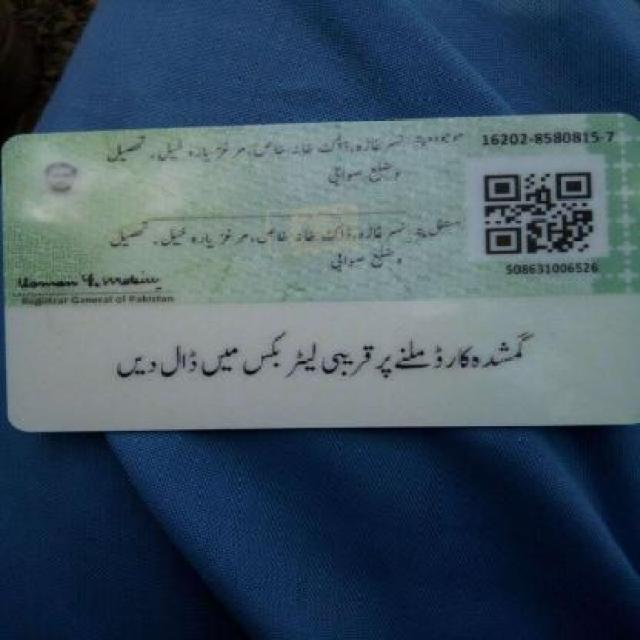Back: (11, 111, 638, 434)
